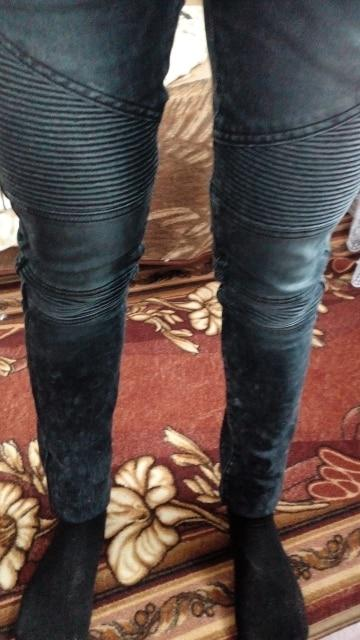jeans: (4, 5, 360, 529)
